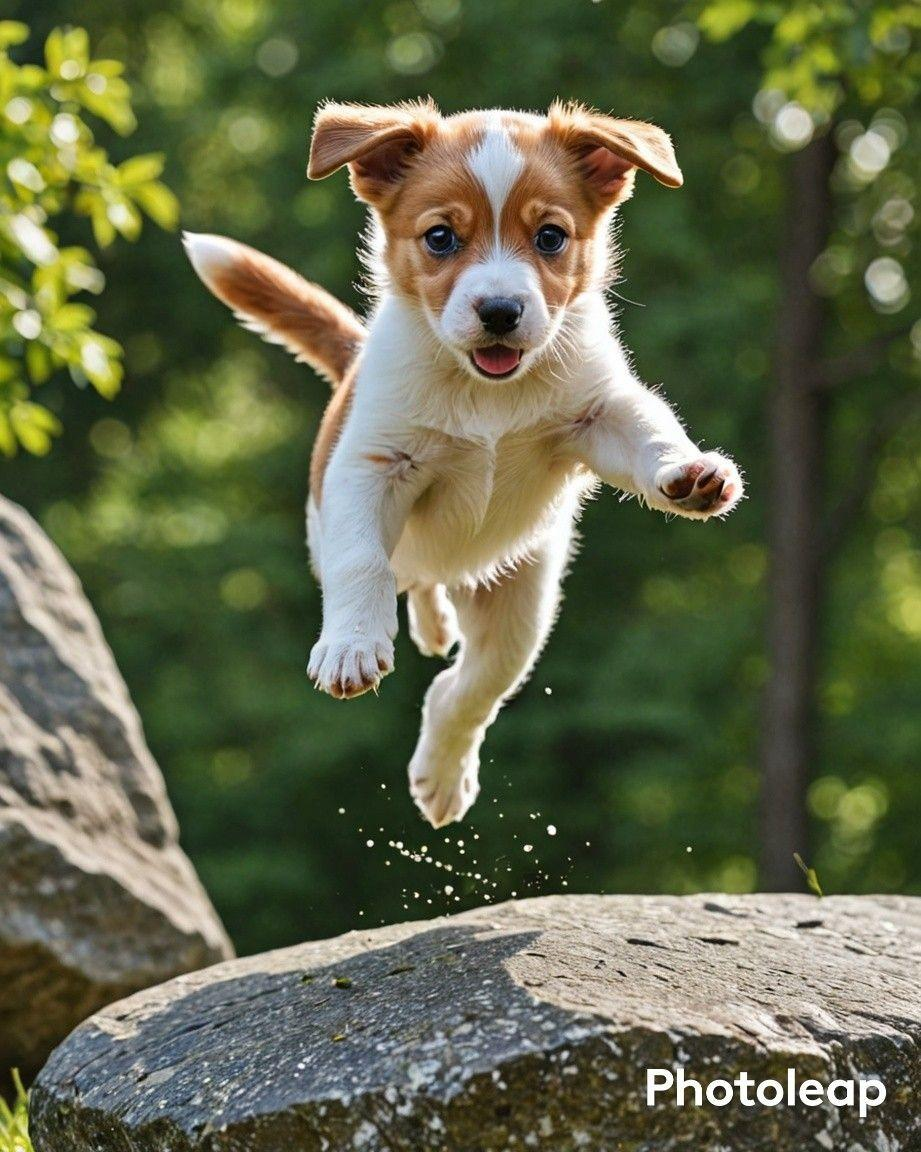puppy-dog: (182, 98, 751, 829)
